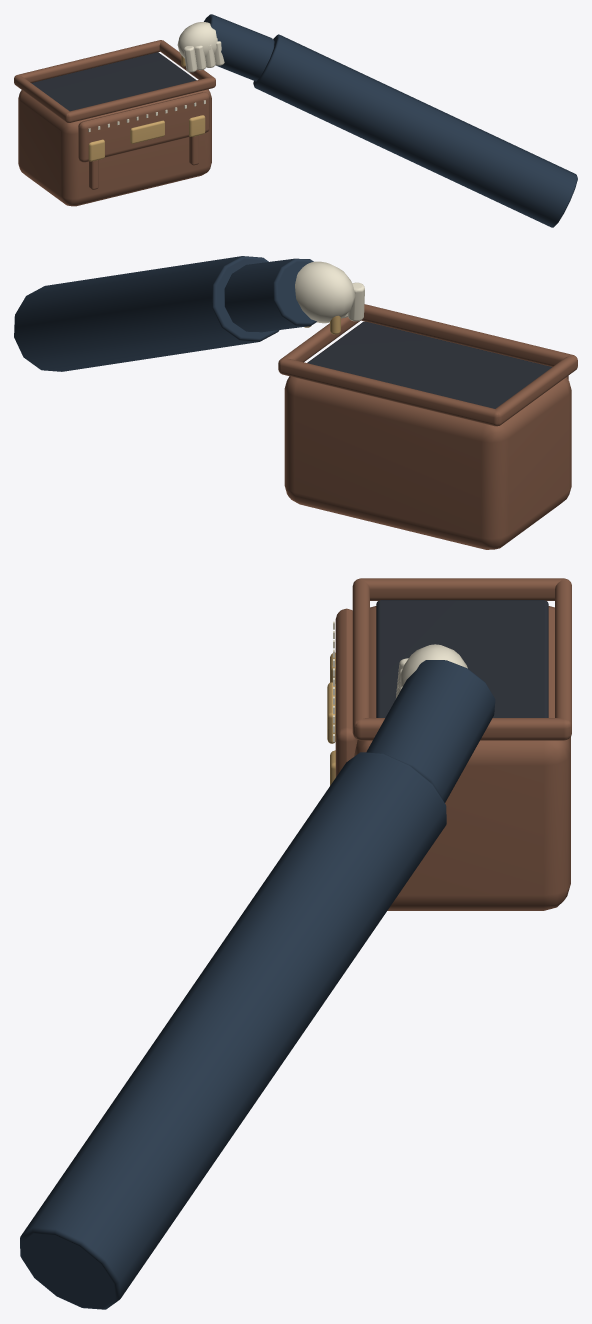
Rendered from satchel.glb.
3 renders of one model, top to bottom at view 1: azimuth 30°, elevation 25°; view 2: azimuth 150°, elevation 25°; view 3: azimuth 270°, elevation 25°, orthographic. The views are drawn at different scales.
Parts seen in each view (by area): view 1: satchel; view 2: satchel; view 3: satchel.
Boxes of the visible parts, x1,y1,x2,y2 form: satchel: (14,14,577,227); satchel: (14,256,577,549); satchel: (20,578,571,1309).
Bounding box in the file's own units: 2.08 × 0.9076 × 1.12.
